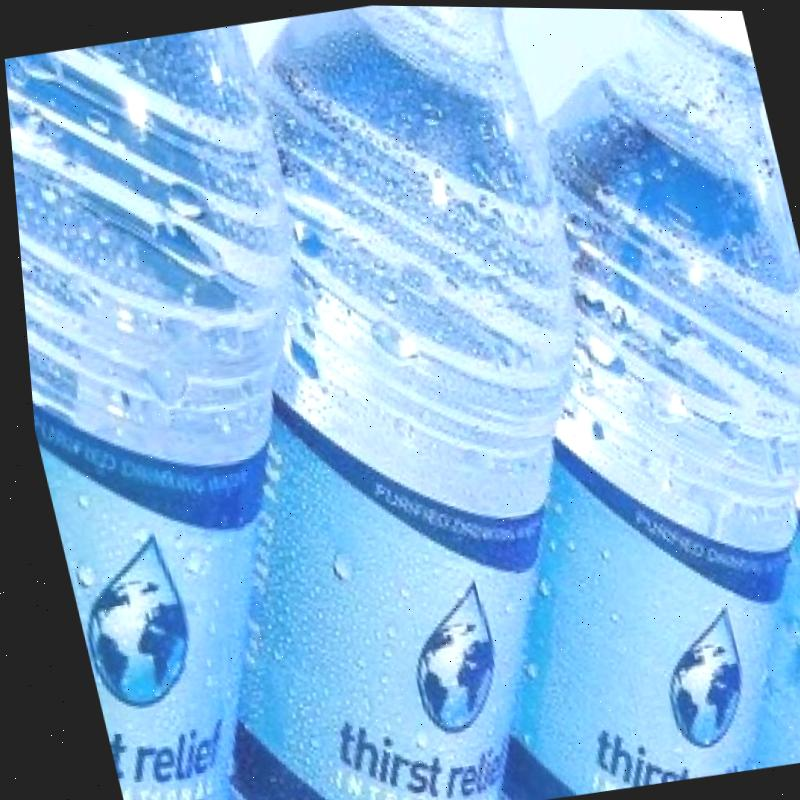botella: (31, 0, 701, 800), (306, 4, 800, 800), (1, 20, 416, 800), (649, 359, 800, 768)
